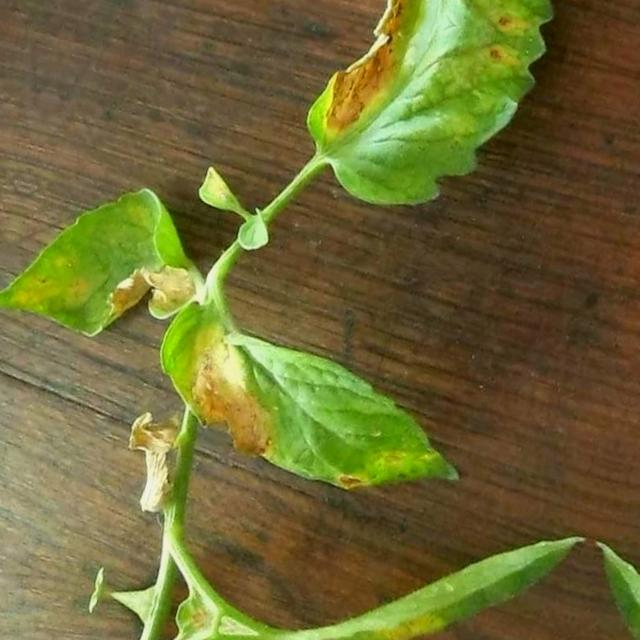Tomato Early blight leaf: (123, 284, 501, 526), (291, 0, 588, 251)
